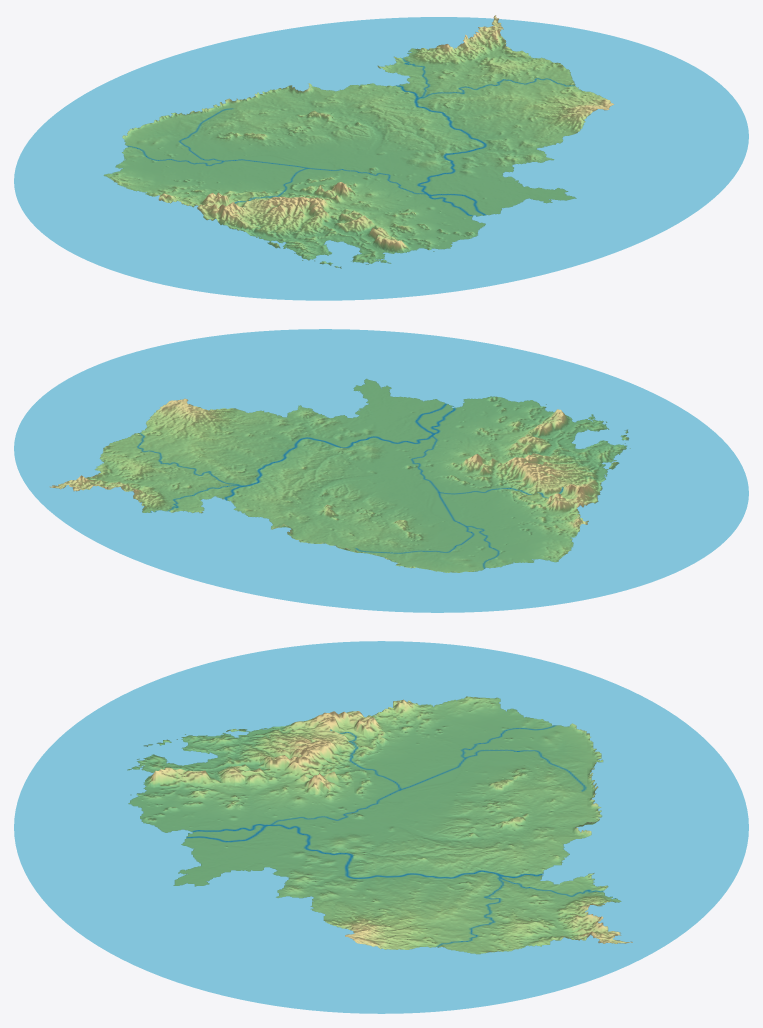
The model's file is KHM-terrain.glb.
3 views of the same model, one above another, from view 1: azimuth 30°, elevation 25°; view 2: azimuth 150°, elevation 25°; view 3: azimuth 270°, elevation 25° (orthographic). The views are drawn at different scales.
Visible parts, largest first — view 1: Relevo com hidrografia; view 2: Relevo com hidrografia; view 3: Relevo com hidrografia.
Part boxes in pixels (x1,y1,x2,y2): Relevo com hidrografia: [14, 15, 748, 300]; Relevo com hidrografia: [14, 329, 748, 612]; Relevo com hidrografia: [14, 641, 748, 1013].
Size of the model in its own units: 2.33 by 0.0447 by 1.94.
Materials: 2 (1 with a texture image).
